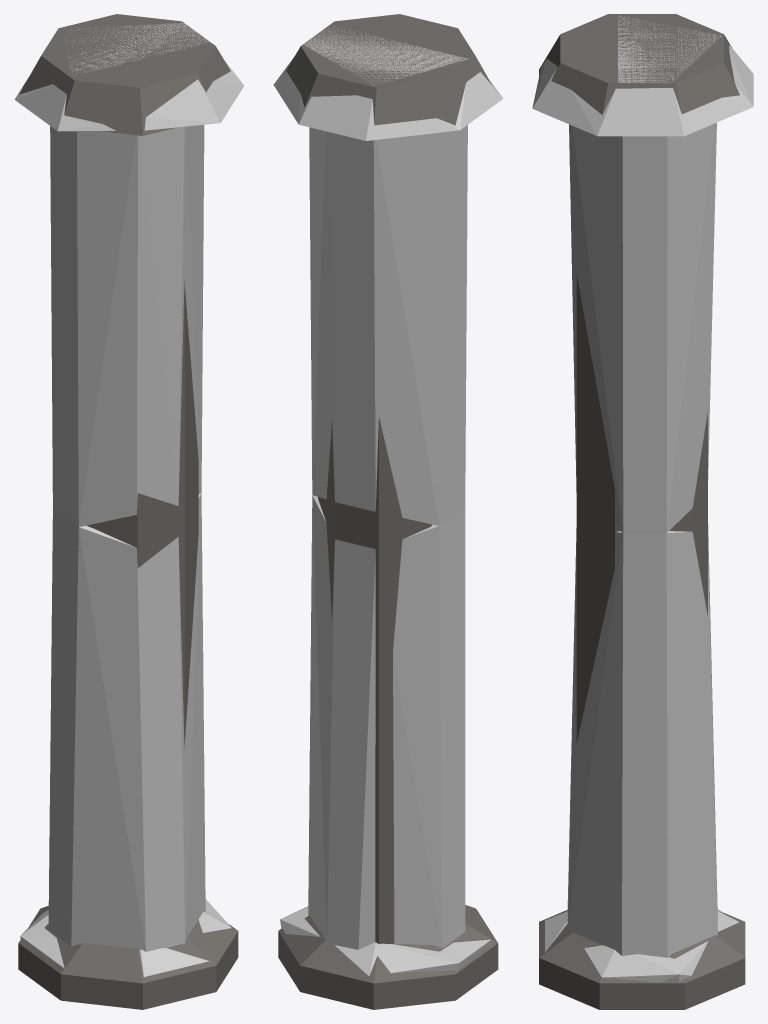
Rendered from SM_Bld_Railing_Pole_01.fbx.
The picture shows the model from 3 angles, left to right: view 1: azimuth 30°, elevation 25°; view 2: azimuth 150°, elevation 25°; view 3: azimuth 270°, elevation 25°; orthographic projection.
Visible parts, largest first — view 1: SM_Bld_Railing_Pole_01_ConvexHulls, SM_Bld_Railing_Pole_01; view 2: SM_Bld_Railing_Pole_01_ConvexHulls, SM_Bld_Railing_Pole_01; view 3: SM_Bld_Railing_Pole_01_ConvexHulls, SM_Bld_Railing_Pole_01.
Part boxes in pixels (x1,y1,x2,y2): SM_Bld_Railing_Pole_01_ConvexHulls: (14, 23, 244, 976); SM_Bld_Railing_Pole_01: (18, 14, 238, 1009); SM_Bld_Railing_Pole_01_ConvexHulls: (273, 26, 503, 975); SM_Bld_Railing_Pole_01: (278, 14, 498, 1009); SM_Bld_Railing_Pole_01_ConvexHulls: (532, 15, 753, 982); SM_Bld_Railing_Pole_01: (539, 14, 745, 1009).
Bounding box in the file's own units: 23.57 × 24.04 × 110.
2 materials, 1 textured.
